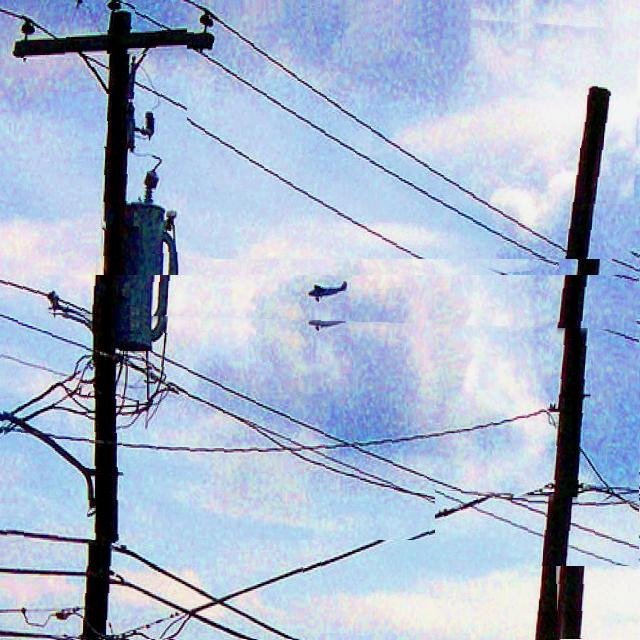crossarm: (0, 3, 220, 59)
pole: (554, 57, 616, 639), (104, 13, 134, 640)
transformer: (123, 203, 172, 354)
wire: (0, 276, 634, 504), (1, 311, 628, 540), (187, 0, 608, 259), (84, 54, 559, 272), (221, 476, 542, 599), (0, 526, 302, 640), (30, 401, 553, 448), (330, 125, 549, 237), (0, 564, 263, 630), (435, 490, 639, 566), (211, 57, 322, 114), (135, 7, 172, 31), (600, 253, 640, 271)
